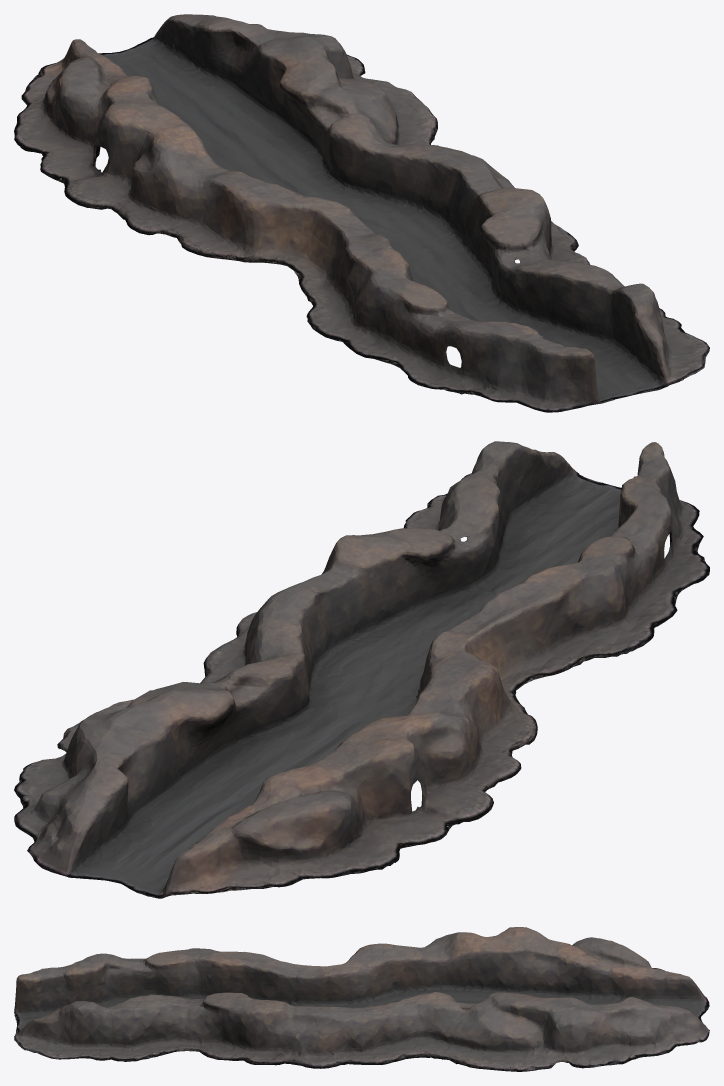
3 renders of one model, top to bottom at view 1: azimuth 30°, elevation 25°; view 2: azimuth 150°, elevation 25°; view 3: azimuth 270°, elevation 25°, orthographic. The views are drawn at different scales.
Parts seen in each view (by area): view 1: world; view 2: world; view 3: world.
Boxes of the visible parts, x1=… form: world: x1=14, y1=14, x2=709, y2=412; world: x1=14, y1=441, x2=709, y2=898; world: x1=14, y1=927, x2=709, y2=1071.
Size of the model in its own units: 11.95 by 2.06 by 28.
2 materials, 2 textured.
